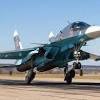maybay_muctieu: (1, 26, 100, 85)
